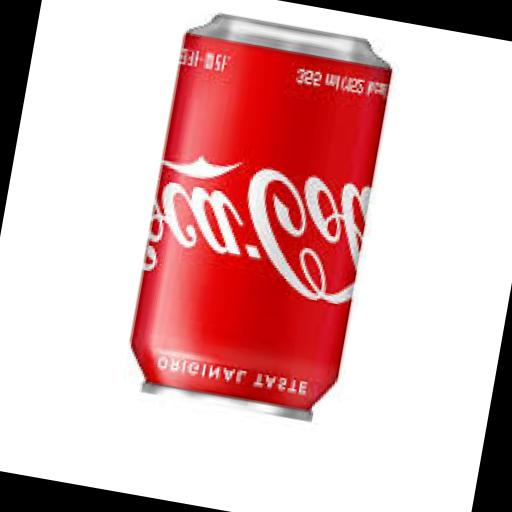Coca: (97, 0, 427, 451)
